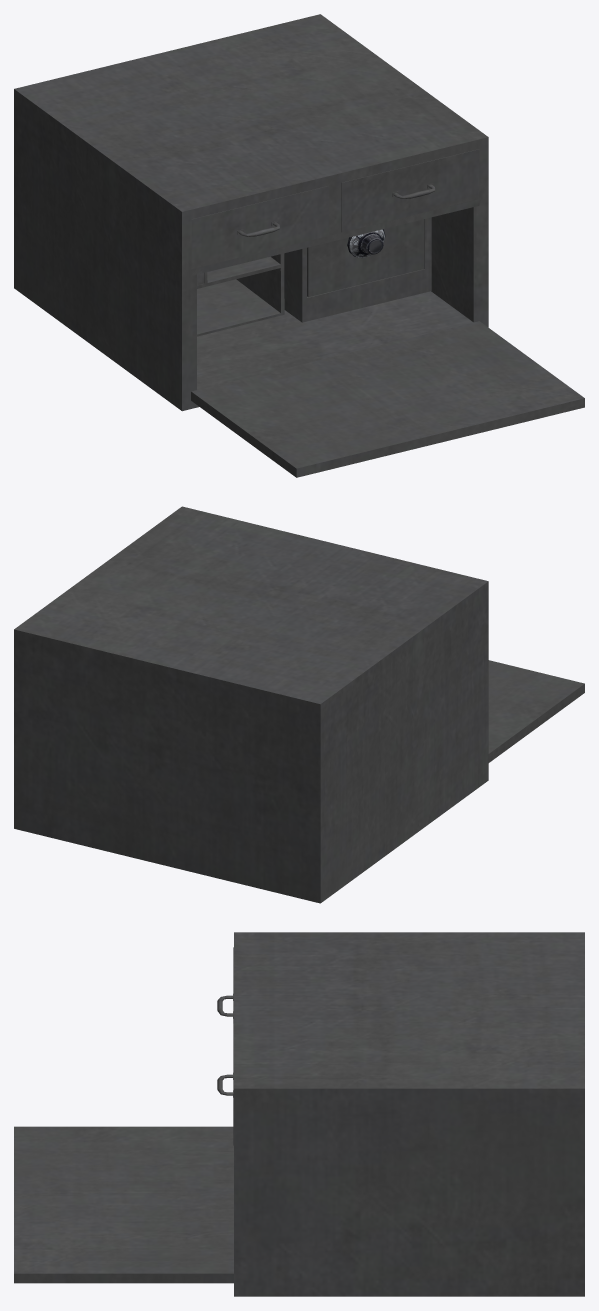
File: stateroom_desktop.fbx
3 views of the same model, one above another, from view 1: azimuth 30°, elevation 25°; view 2: azimuth 150°, elevation 25°; view 3: azimuth 270°, elevation 25° (orthographic). The views are drawn at different scales.
Visible parts, largest first — view 1: polySurface4, polySurface8, polySurface7, polySurface2, polySurface5, polySurface6, polySurface16, polySurface15, polySurface17, polySurface3; view 2: polySurface4, polySurface8; view 3: polySurface4, polySurface8.
Boxes of the visible parts, left/top/right/bottom form: polySurface4: left=14, top=14, right=488, bottom=411; polySurface8: left=191, top=321, right=584, bottom=477; polySurface7: left=197, top=207, right=473, bottom=389; polySurface2: left=284, top=217, right=431, bottom=322; polySurface5: left=341, top=149, right=479, bottom=232; polySurface6: left=191, top=186, right=329, bottom=268; polySurface16: left=197, top=268, right=280, bottom=334; polySurface15: left=197, top=253, right=284, bottom=336; polySurface17: left=207, top=254, right=280, bottom=282; polySurface3: left=347, top=229, right=385, bottom=257; polySurface4: left=14, top=506, right=488, bottom=903; polySurface8: left=488, top=660, right=584, bottom=762; polySurface4: left=234, top=932, right=584, bottom=1296; polySurface8: left=14, top=1126, right=233, bottom=1283.
Size of the model in its own units: 600 by 373 by 927.
